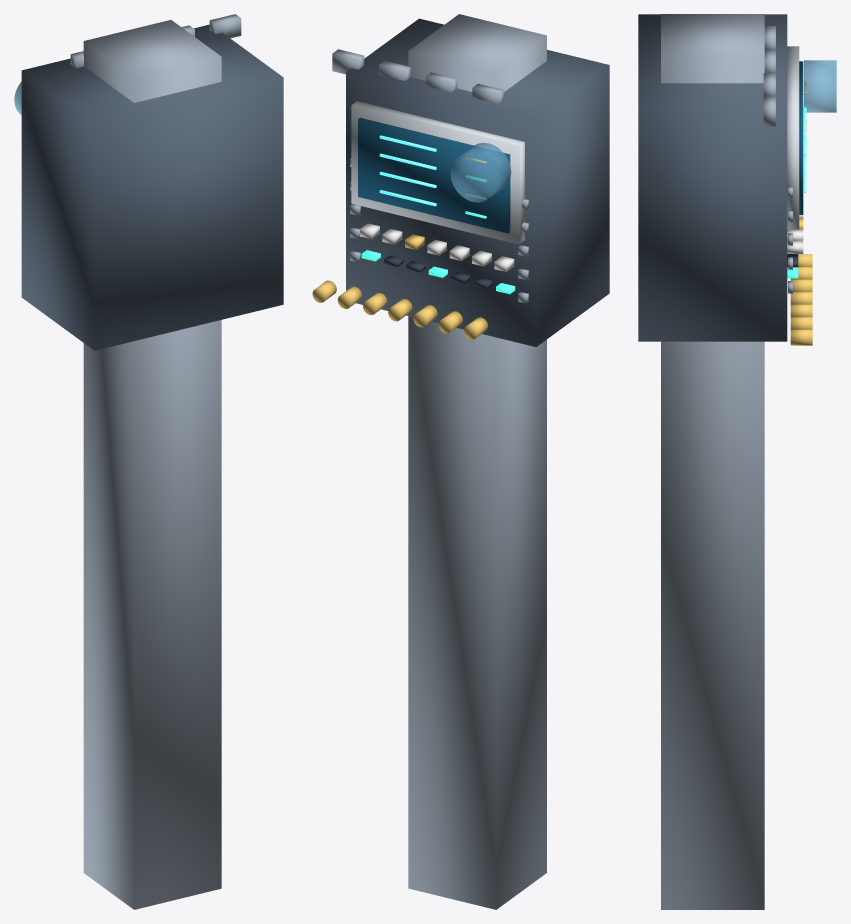
File: L87_84_GravityEngineInspectionCamera_Fitted.fbx
3 views of the same model, side by side, from view 1: azimuth 30°, elevation 25°; view 2: azimuth 150°, elevation 25°; view 3: azimuth 270°, elevation 25° (orthographic). The views are drawn at different scales.
Parts seen in each view (by area): view 1: L87_GravityEngineInspectionCamera_Static__tint617387, L87_GravityEngineInspectionCamera_Static__tint1A2430; view 2: L87_GravityEngineInspectionCamera_Static__tint617387, L87_GravityEngineInspectionCamera_Static__tint1A2430, L87_GravityEngineInspectionCamera_Static__tint041F3B, L87_GravityEngineInspectionCamera_Static__tintB0BFCC, L87_GravityEngineInspectionCamera_Static__tintF5A62B, L87_GravityEngineInspectionCamera_Static__glass, L87_GravityEngineInspectionCamera_Static__tintE3E6E0, L87_GravityEngineInspectionCamera_Static__tint1CC7FF, L87_GravityEngineInspectionCamera_Static__tint0A0F1A, L87_GravityEngineInspectionCamera_Static__tint0FE88A; view 3: L87_GravityEngineInspectionCamera_Static__tint617387, L87_GravityEngineInspectionCamera_Static__tint1A2430, L87_GravityEngineInspectionCamera_Static__tintB0BFCC, L87_GravityEngineInspectionCamera_Static__tintF5A62B, L87_GravityEngineInspectionCamera_Static__glass, L87_GravityEngineInspectionCamera_Static__tint041F3B.
Part boxes in pixels (box(x1,y1,x2,y2)): L87_GravityEngineInspectionCamera_Static__tint617387: box(70, 14, 241, 909); L87_GravityEngineInspectionCamera_Static__tint1A2430: box(21, 24, 283, 350); L87_GravityEngineInspectionCamera_Static__tint617387: box(332, 14, 546, 909); L87_GravityEngineInspectionCamera_Static__tint1A2430: box(346, 18, 609, 346); L87_GravityEngineInspectionCamera_Static__tint041F3B: box(358, 118, 510, 233); L87_GravityEngineInspectionCamera_Static__tintB0BFCC: box(351, 101, 524, 244); L87_GravityEngineInspectionCamera_Static__tintF5A62B: box(312, 157, 488, 339); L87_GravityEngineInspectionCamera_Static__glass: box(450, 142, 511, 202); L87_GravityEngineInspectionCamera_Static__tintE3E6E0: box(360, 223, 514, 271); L87_GravityEngineInspectionCamera_Static__tint1CC7FF: box(379, 135, 436, 206); L87_GravityEngineInspectionCamera_Static__tint0A0F1A: box(384, 255, 492, 288); L87_GravityEngineInspectionCamera_Static__tint0FE88A: box(361, 175, 515, 294); L87_GravityEngineInspectionCamera_Static__tint617387: box(661, 14, 792, 909); L87_GravityEngineInspectionCamera_Static__tint1A2430: box(638, 14, 787, 341); L87_GravityEngineInspectionCamera_Static__tintB0BFCC: box(787, 46, 799, 229); L87_GravityEngineInspectionCamera_Static__tintF5A62B: box(790, 82, 812, 345); L87_GravityEngineInspectionCamera_Static__glass: box(804, 60, 836, 112); L87_GravityEngineInspectionCamera_Static__tint041F3B: box(799, 61, 803, 214).
Size of the model in its own units: 7.61 by 28.8 by 6.08.
